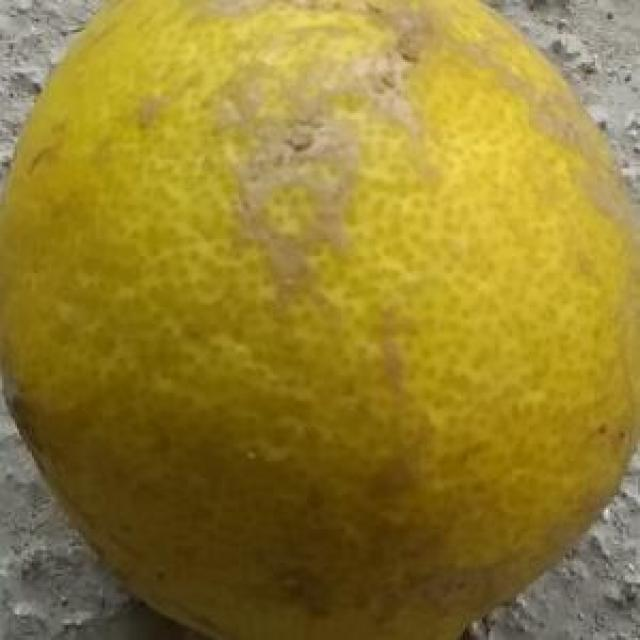lemon: (7, 1, 638, 640)
